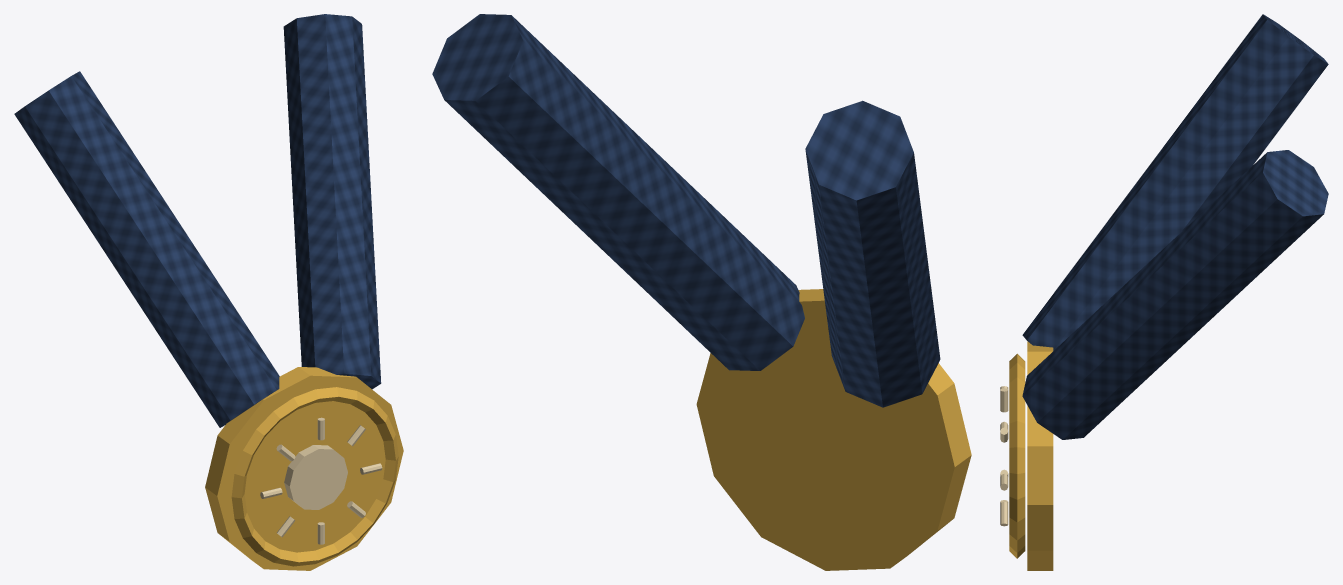
File: mayor_medal.glb
3 renders of one model, left to right at view 1: azimuth 30°, elevation 25°; view 2: azimuth 150°, elevation 25°; view 3: azimuth 270°, elevation 25°, orthographic. The views are drawn at different scales.
Parts seen in each view (by area): view 1: ribbon, ribbon.001, gold_disc, medal_rim, sun; view 2: ribbon.001, gold_disc, ribbon; view 3: ribbon.001, ribbon, gold_disc, medal_rim.
Boxes of the visible parts, x1=… form: ribbon: x1=14, y1=71, x2=279, y2=427; ribbon.001: x1=283, y1=14, x2=381, y2=389; gold_disc: x1=205, y1=367, x2=403, y2=570; medal_rim: x1=231, y1=387, x2=398, y2=566; sun: x1=284, y1=445, x2=347, y2=509; ribbon.001: x1=432, y1=14, x2=804, y2=370; gold_disc: x1=696, y1=289, x2=971, y2=570; ribbon: x1=805, y1=100, x2=940, y2=407; ribbon.001: x1=1022, y1=150, x2=1328, y2=439; ribbon: x1=1022, y1=14, x2=1328, y2=350; gold_disc: x1=1027, y1=341, x2=1053, y2=570; medal_rim: x1=1009, y1=353, x2=1025, y2=558.
Bounding box in the file's own units: 0.4158 × 0.5229 × 0.3279.
3 materials, 1 textured.
